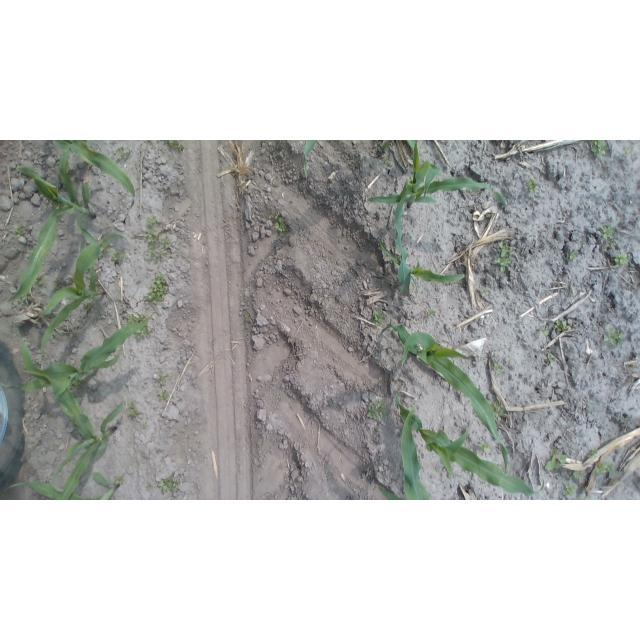Maize: (366, 141, 512, 300), (376, 320, 511, 489), (394, 389, 537, 500), (7, 144, 101, 304), (22, 367, 127, 500), (38, 233, 131, 367), (0, 320, 148, 403), (375, 234, 467, 298), (53, 140, 136, 209), (1, 475, 128, 500), (301, 141, 320, 180), (375, 486, 405, 500)
Weeds: (143, 218, 171, 261), (146, 275, 171, 305), (493, 242, 516, 274), (127, 313, 151, 340), (545, 448, 568, 472), (365, 396, 386, 420), (157, 474, 182, 494), (269, 212, 290, 233), (378, 141, 395, 166), (602, 328, 626, 345), (600, 224, 616, 249), (591, 140, 610, 158), (490, 402, 506, 422), (527, 177, 542, 198), (161, 140, 187, 152), (593, 461, 615, 475), (612, 251, 632, 265), (372, 310, 388, 327), (115, 147, 133, 162), (554, 319, 570, 334), (562, 483, 579, 497), (113, 250, 127, 266), (476, 442, 494, 454), (128, 402, 141, 418), (492, 361, 505, 376), (564, 249, 580, 261), (568, 468, 584, 480), (98, 240, 113, 252), (423, 307, 437, 319), (155, 374, 170, 385), (14, 226, 26, 238), (159, 389, 172, 400), (538, 329, 551, 340), (588, 449, 600, 460), (74, 381, 87, 391), (19, 291, 30, 301), (546, 352, 555, 364), (479, 287, 489, 297), (114, 477, 124, 486), (145, 483, 153, 492), (36, 279, 45, 287), (142, 420, 149, 428), (485, 211, 493, 218)
